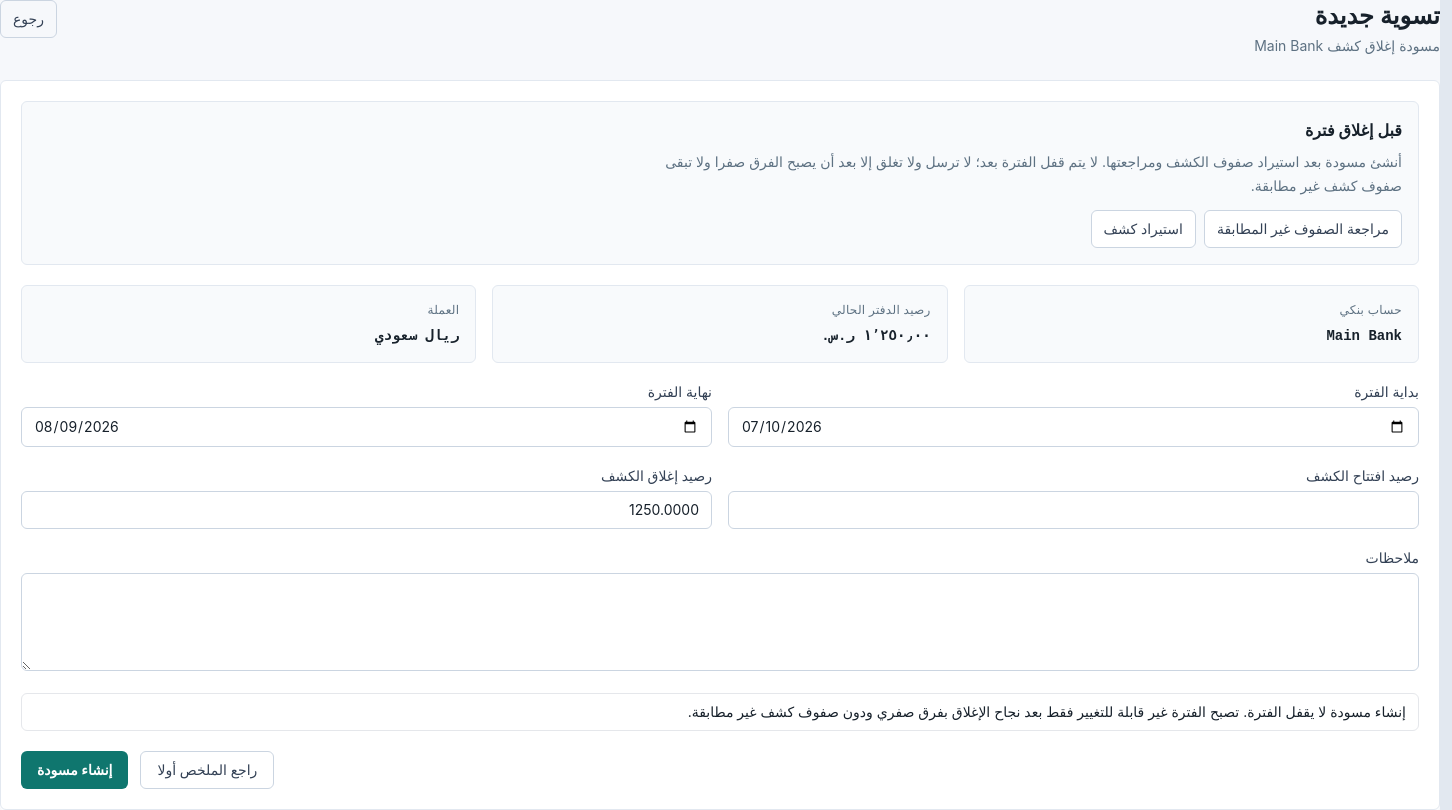
Test: new bank reconciliation page › renders Arabic create guidance and validation without changing routes
The image size is (1452, 810).
Check: the heading "تسوية جديدة" is shown, box [1315,1,1440,30]
Check: the heading "قبل إغلاق فترة" is shown, box [1305,120,1402,140]
Clear the field labelled "رصيد إغلاق الكشف" at (366, 510), box [21,491,712,529]
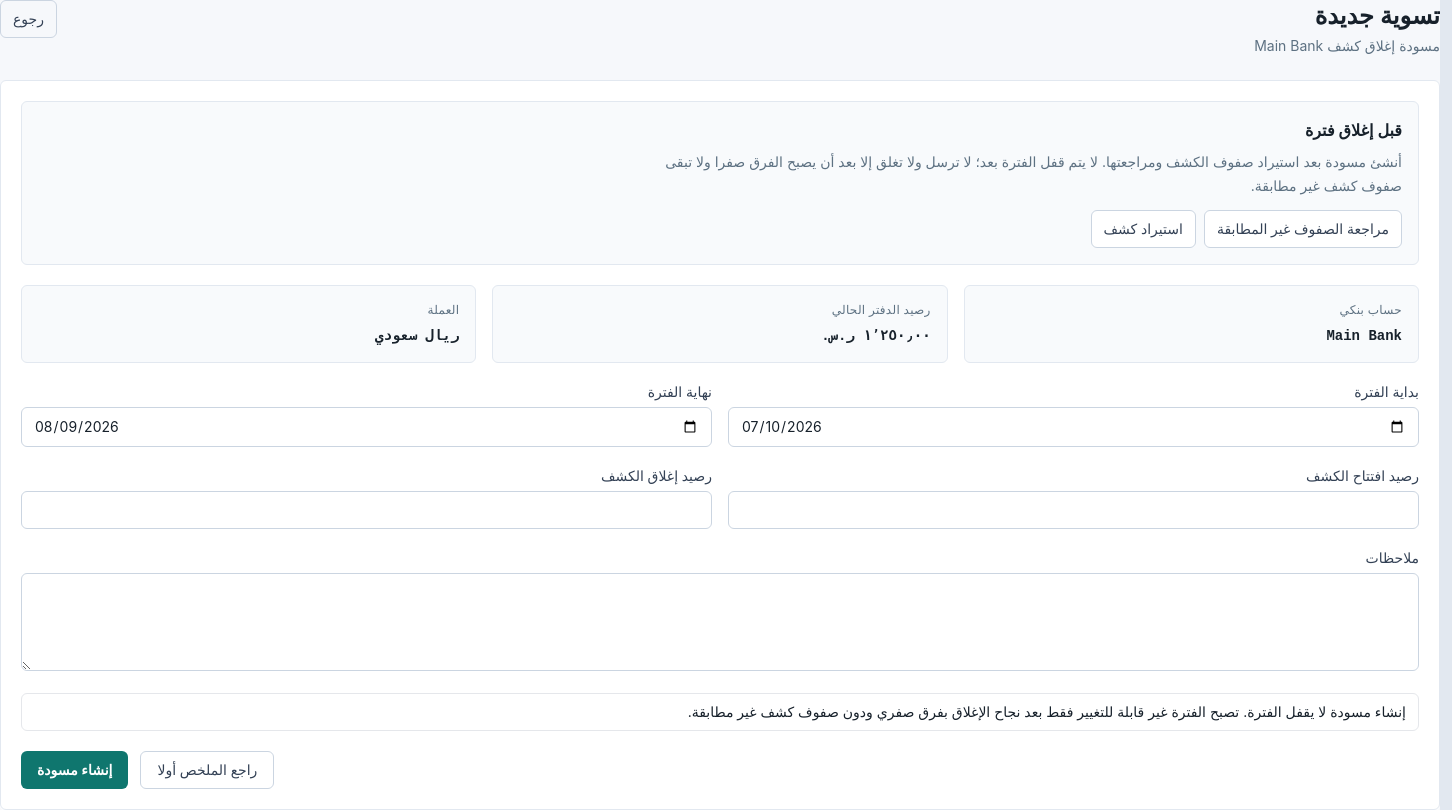
Click the button "إنشاء مسودة".
click(75, 770)  # box [21,751,128,789]
(page scrolled)
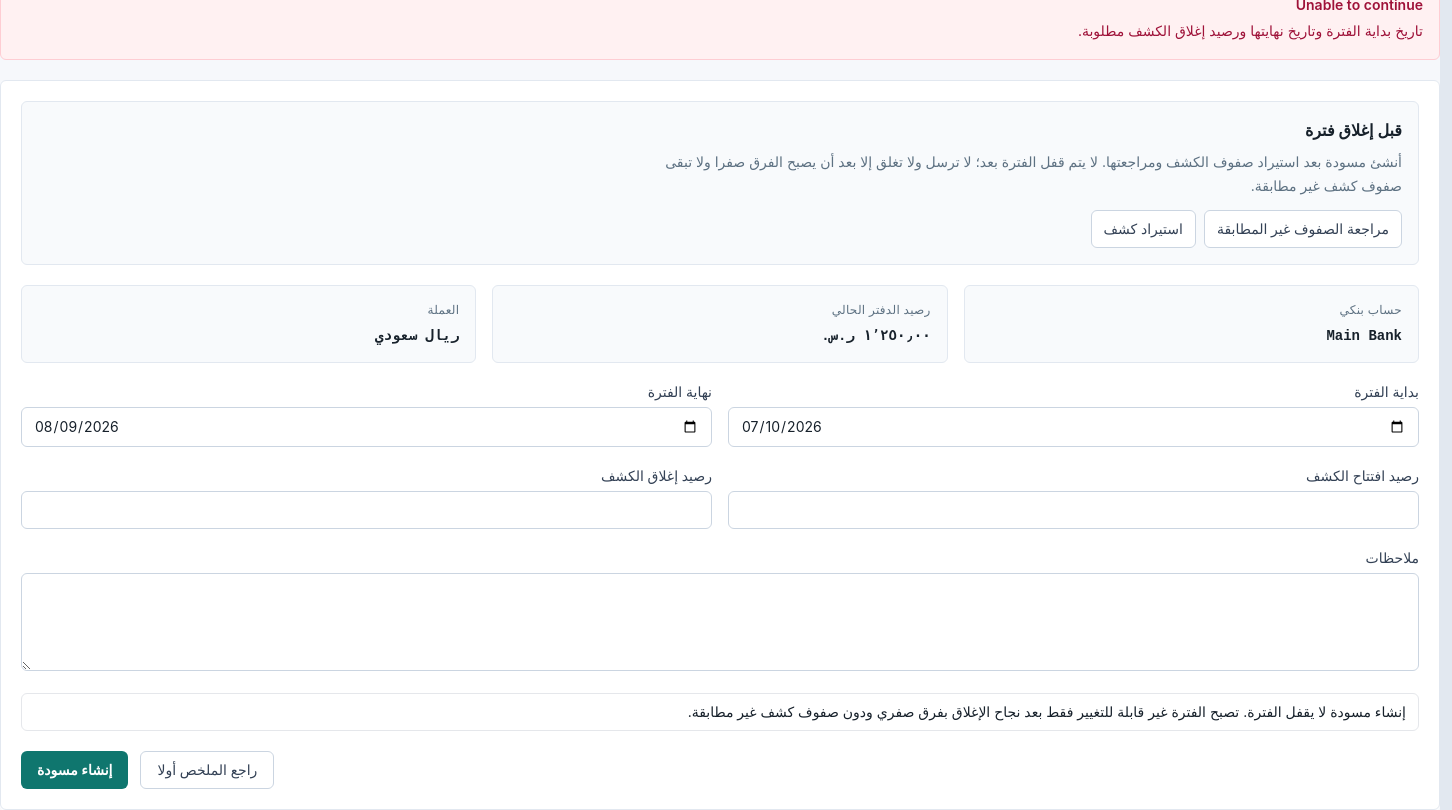
Check: the text "تاريخ بداية الفترة وتاريخ نهايتها ورصيد إغلاق الكشف مطلوبة." is shown, box [1078,22,1423,39]
